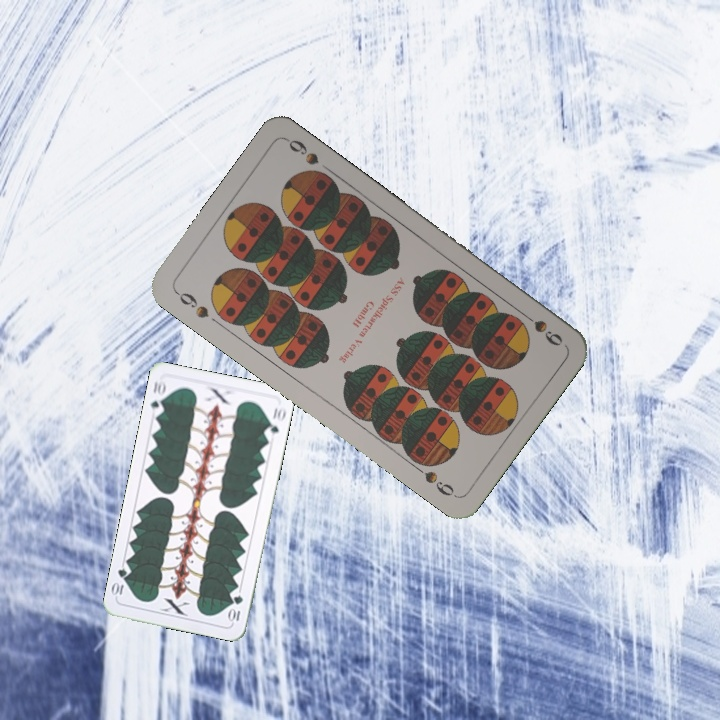G10: (146, 376, 169, 418), (226, 591, 245, 624)
S9: (516, 307, 566, 349), (171, 287, 212, 321)
